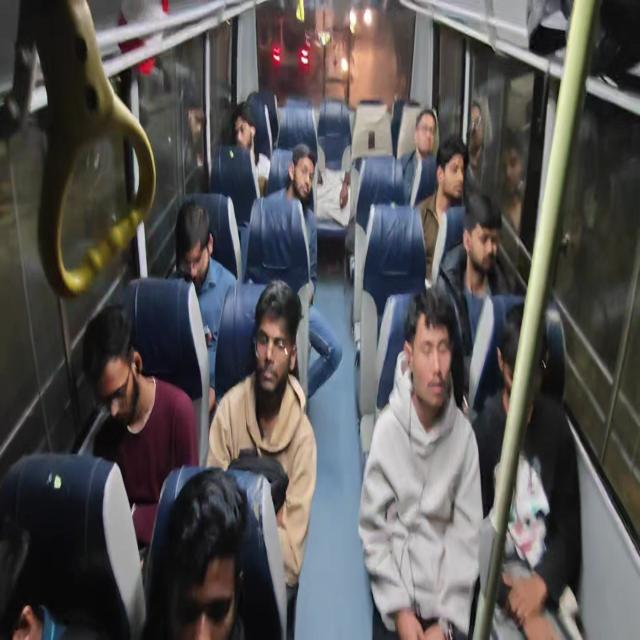person: (79, 90, 583, 638), (358, 288, 484, 638), (206, 278, 317, 636), (470, 302, 582, 639), (82, 303, 198, 552), (266, 142, 342, 398), (143, 467, 248, 639), (435, 191, 505, 411), (168, 200, 237, 408), (413, 134, 469, 288), (399, 107, 438, 207), (231, 100, 270, 198), (497, 130, 527, 234), (181, 83, 207, 193), (464, 96, 492, 195)
